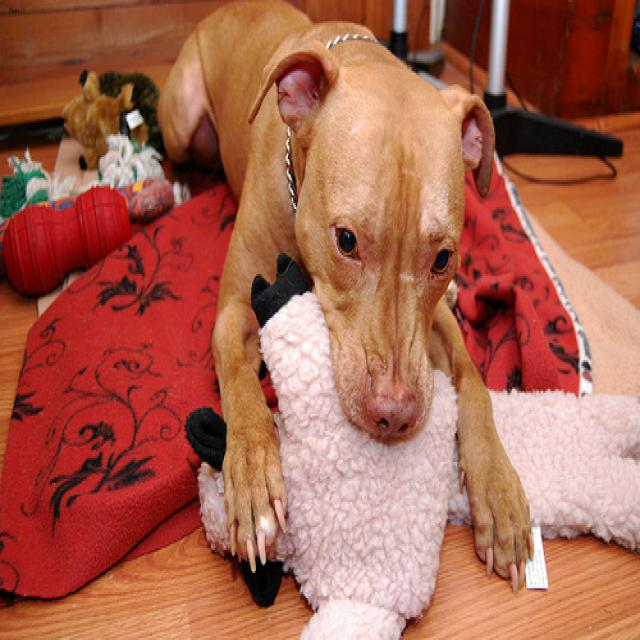dog-american_pit_bull_terrier: (145, 2, 544, 598)
